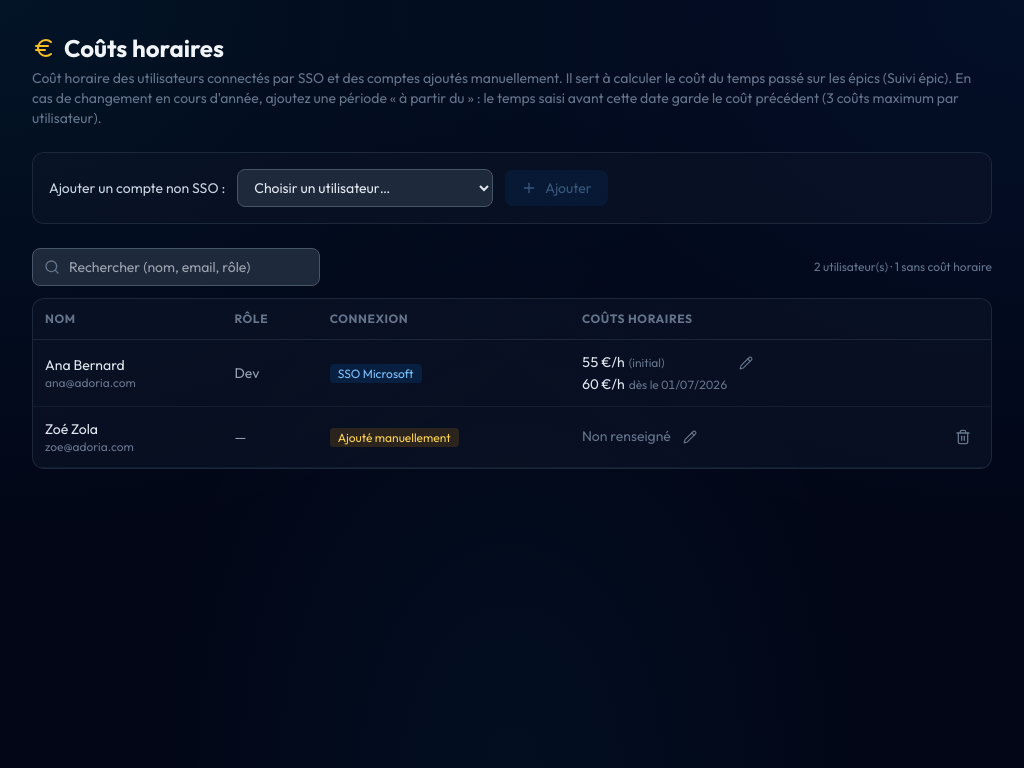
CostsPage › refuse une période sans date ou antérieure à la précédente, sans appeler le serveur
The width and height of the screenshot is (1024, 768).
Click the button named "Modifier les coûts de Ana Bernard" at (746, 363), box [735, 352, 757, 374]
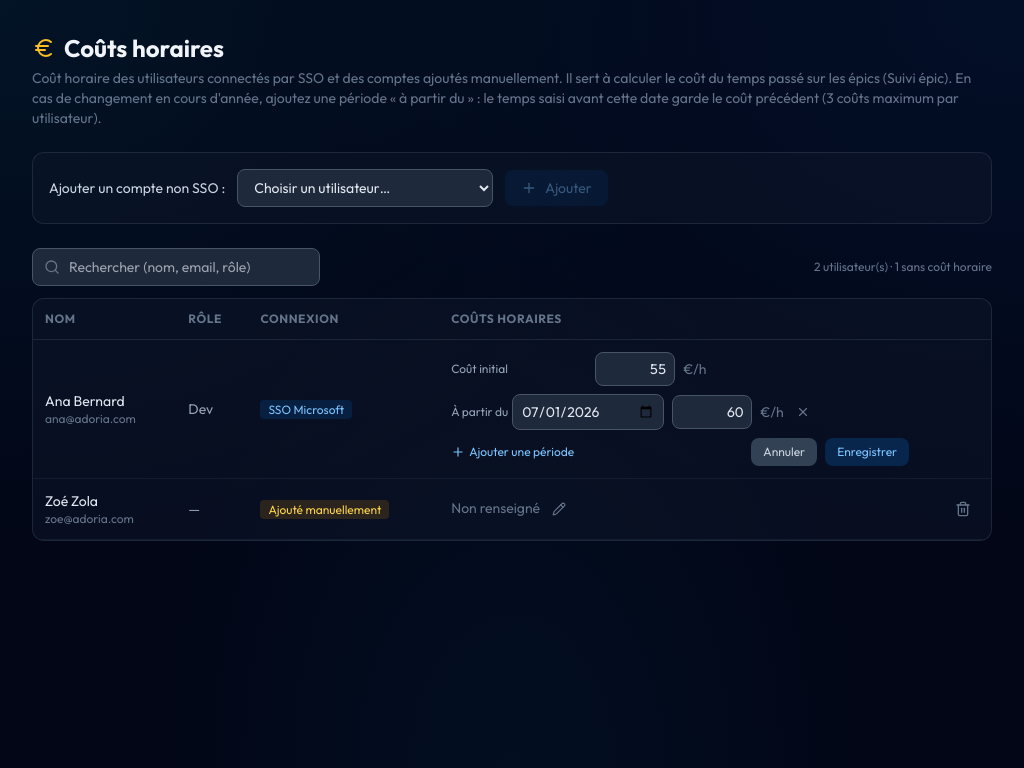
Click the button "Ajouter une période" at (513, 452), box [451, 444, 574, 460]
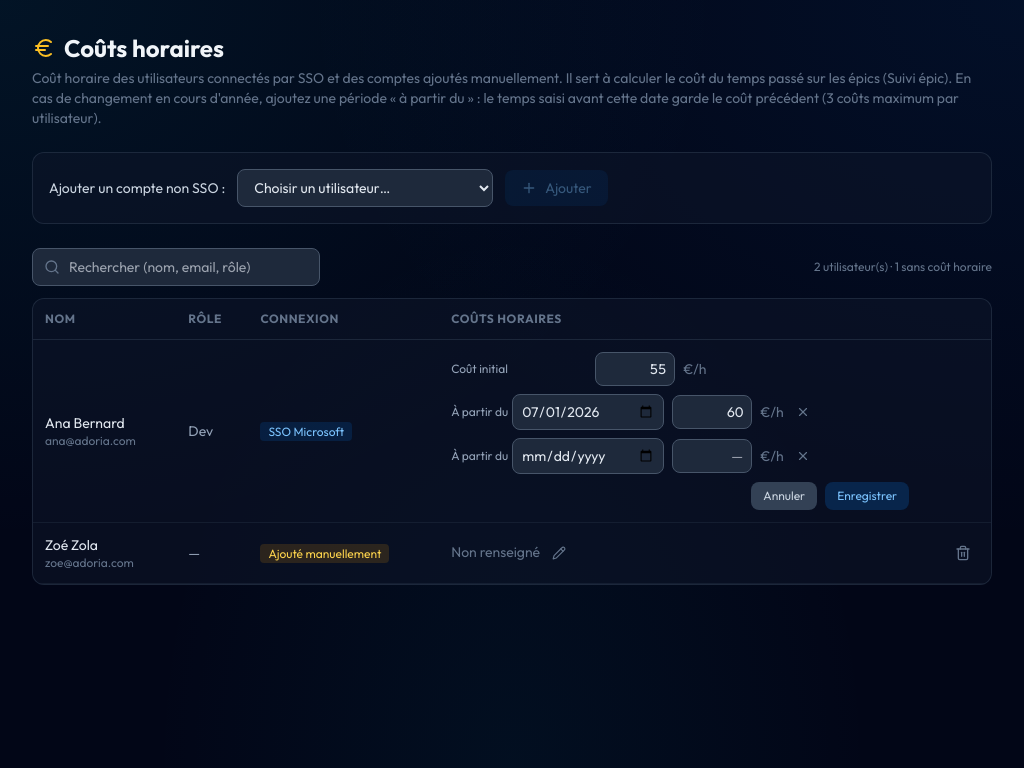
Type "65" into the field named "Coût de la période 2" at (712, 456), box [672, 439, 752, 473]
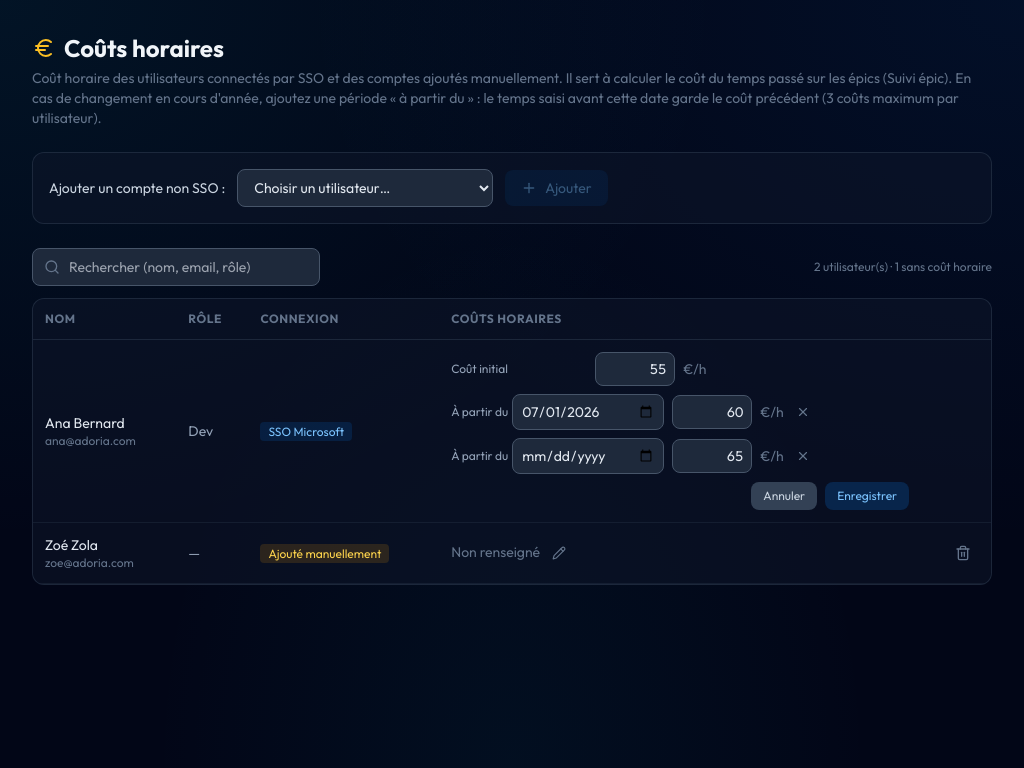
Click the button "Enregistrer" at (867, 496), box [825, 482, 909, 510]
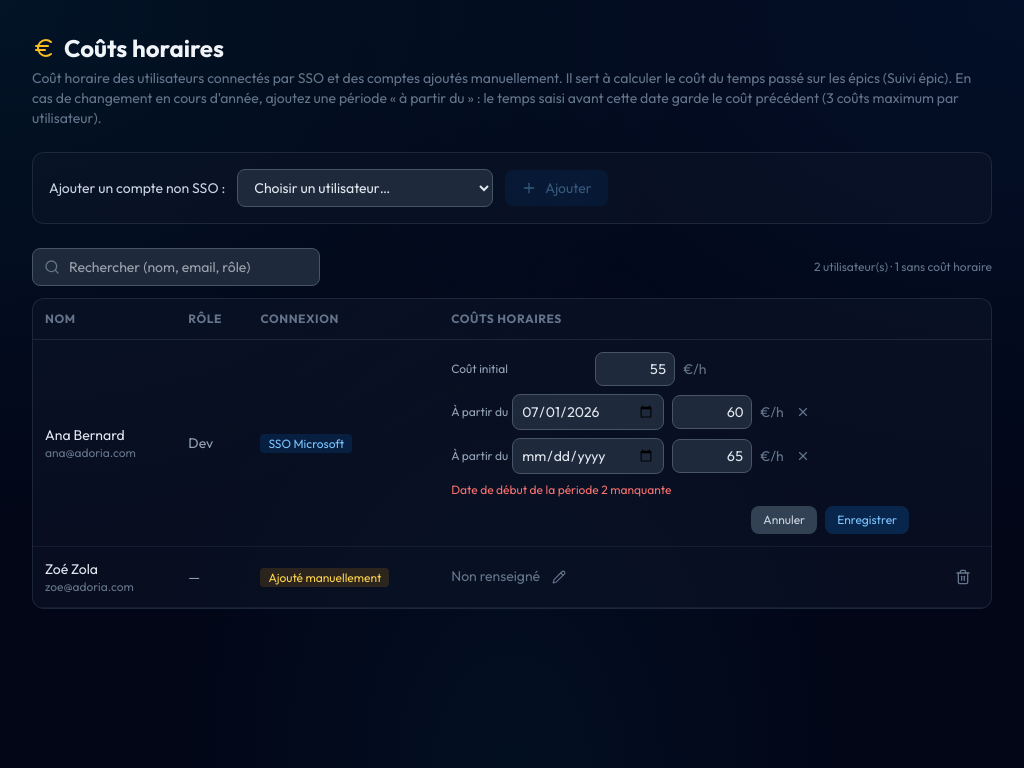
expect the message reads "Date de début de la période 2 manquante": met, box [451, 482, 672, 497]
Type "2026-03-01" into the date field named "Date de début de la période 2" at (588, 456), box [512, 438, 664, 474]
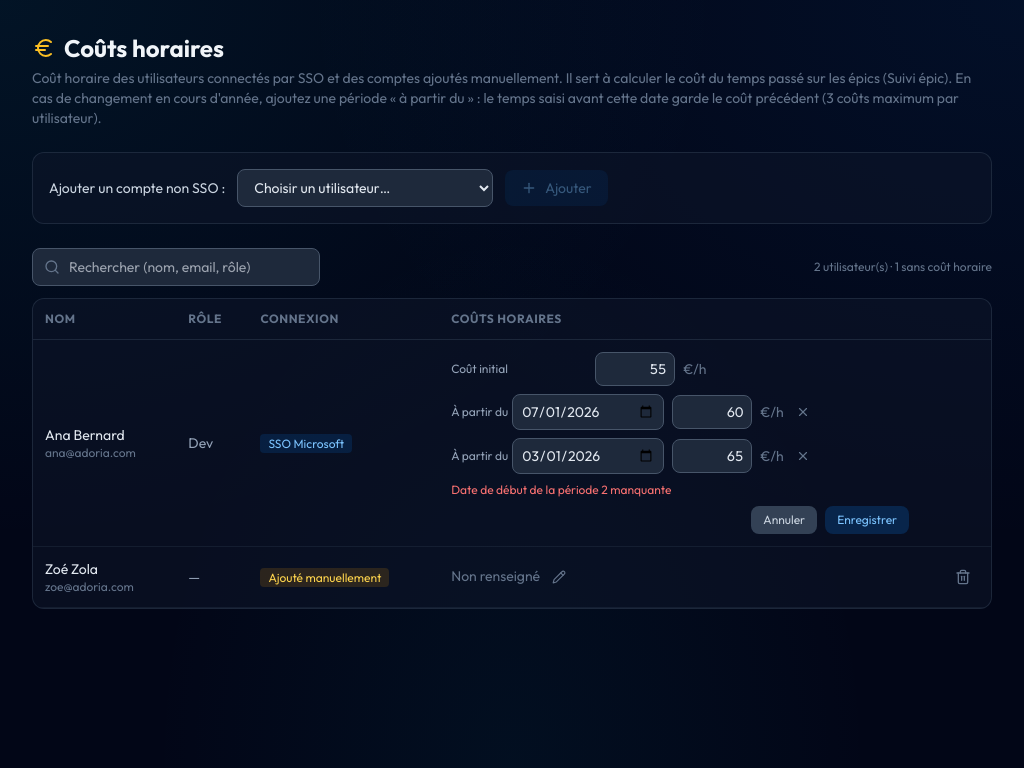
Click the button "Enregistrer" at (867, 520), box [825, 506, 909, 534]
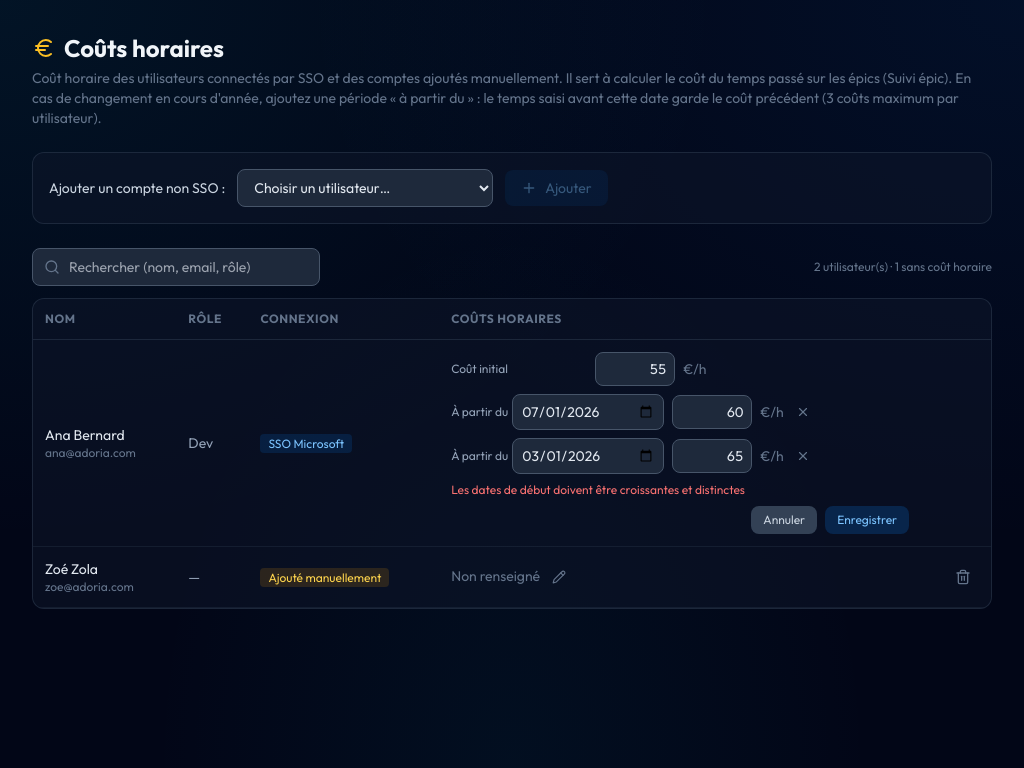
expect the message shows "croissantes": met, box [451, 482, 745, 497]
